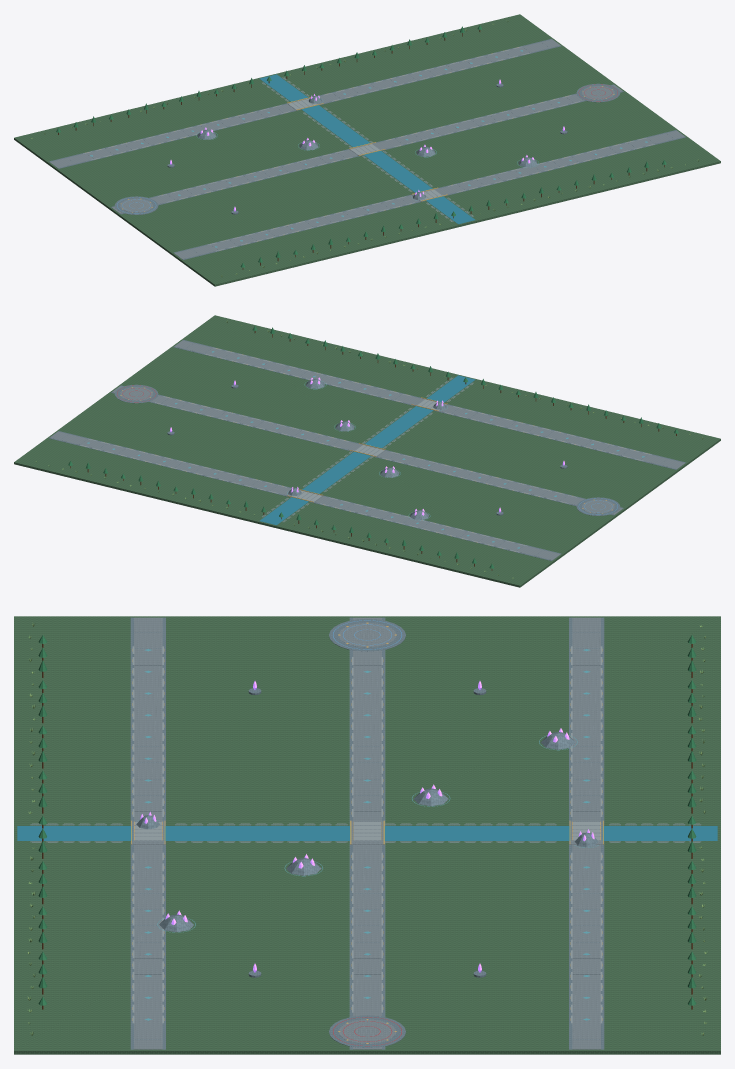
Rendered from genesis_rift_environment_review.glb.
The picture shows the model from 3 angles, top to bottom: view 1: azimuth 30°, elevation 25°; view 2: azimuth 150°, elevation 25°; view 3: azimuth 270°, elevation 25°; orthographic projection. The views are drawn at different scales.
Parts seen in each view (by area): view 1: GenesisRift_terrain, GenesisRift_lanes, GenesisRift_detail_inlays, GenesisRift_cover_and_vegetation; view 2: GenesisRift_terrain, GenesisRift_lanes, GenesisRift_detail_inlays, GenesisRift_cover_and_vegetation; view 3: GenesisRift_terrain, GenesisRift_lanes, GenesisRift_detail_inlays, GenesisRift_cover_and_vegetation.
Part boxes in pixels (x1,y1,x2,y2): GenesisRift_terrain: (14, 14, 720, 286); GenesisRift_lanes: (49, 39, 685, 259); GenesisRift_detail_inlays: (83, 46, 654, 251); GenesisRift_cover_and_vegetation: (56, 25, 666, 269); GenesisRift_terrain: (14, 315, 720, 587); GenesisRift_lanes: (49, 340, 685, 560); GenesisRift_detail_inlays: (80, 347, 651, 552); GenesisRift_cover_and_vegetation: (68, 326, 678, 570); GenesisRift_terrain: (14, 616, 720, 1054); GenesisRift_lanes: (17, 617, 717, 1049); GenesisRift_detail_inlays: (30, 620, 701, 1046); GenesisRift_cover_and_vegetation: (38, 635, 696, 1009).
Bounding box in the file's own units: 320 × 7.33 × 220.
16 materials, 5 textured.
